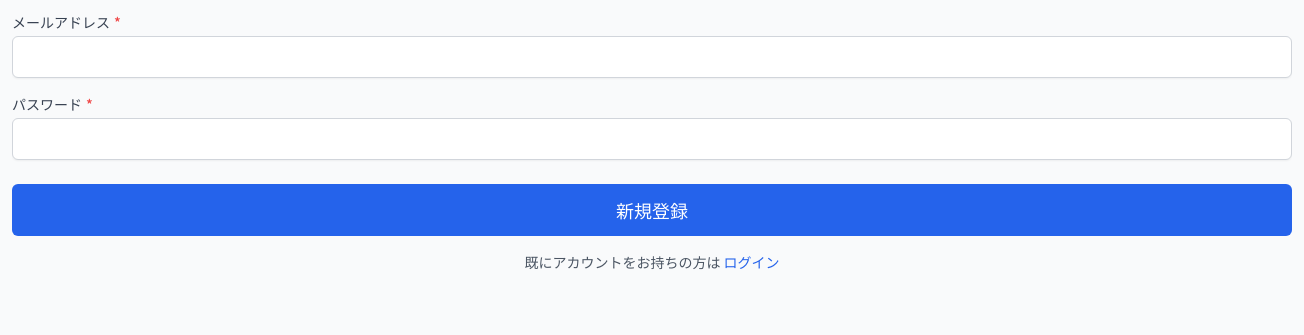
Test: RegisterForm › 不正なメール形式でエラーが表示される
Type "invalid-email" into the field labelled "メールアドレス*". click: (652, 57)
box: [12,36,1292,78]
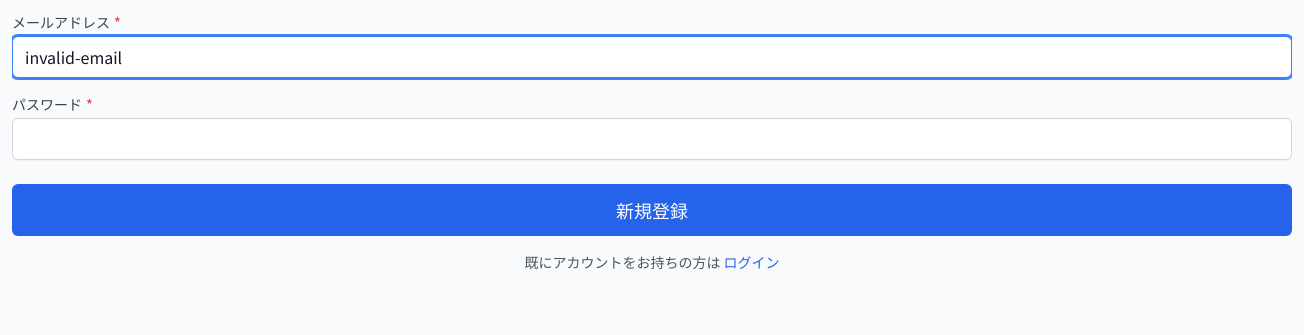
Click the button "新規登録". click: (652, 210)
box: [12,184,1292,236]
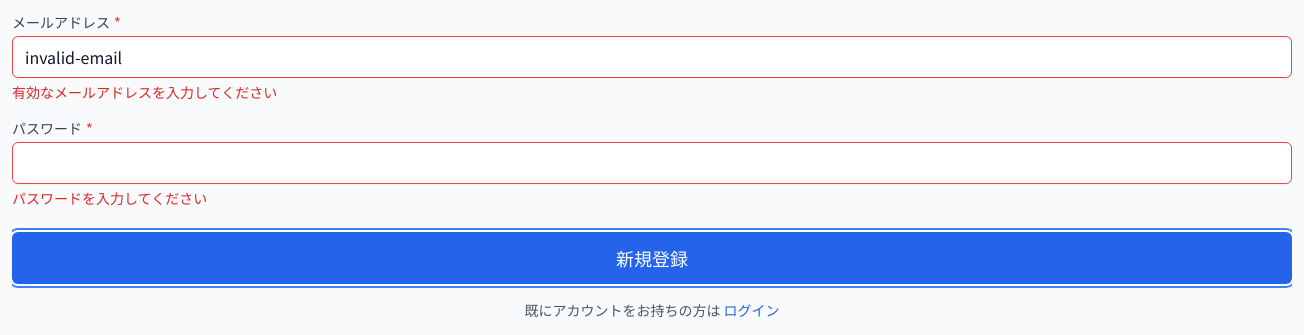
Check: the text "有効なメールアドレスを入力してください" is shown, box [12,82,277,102]
